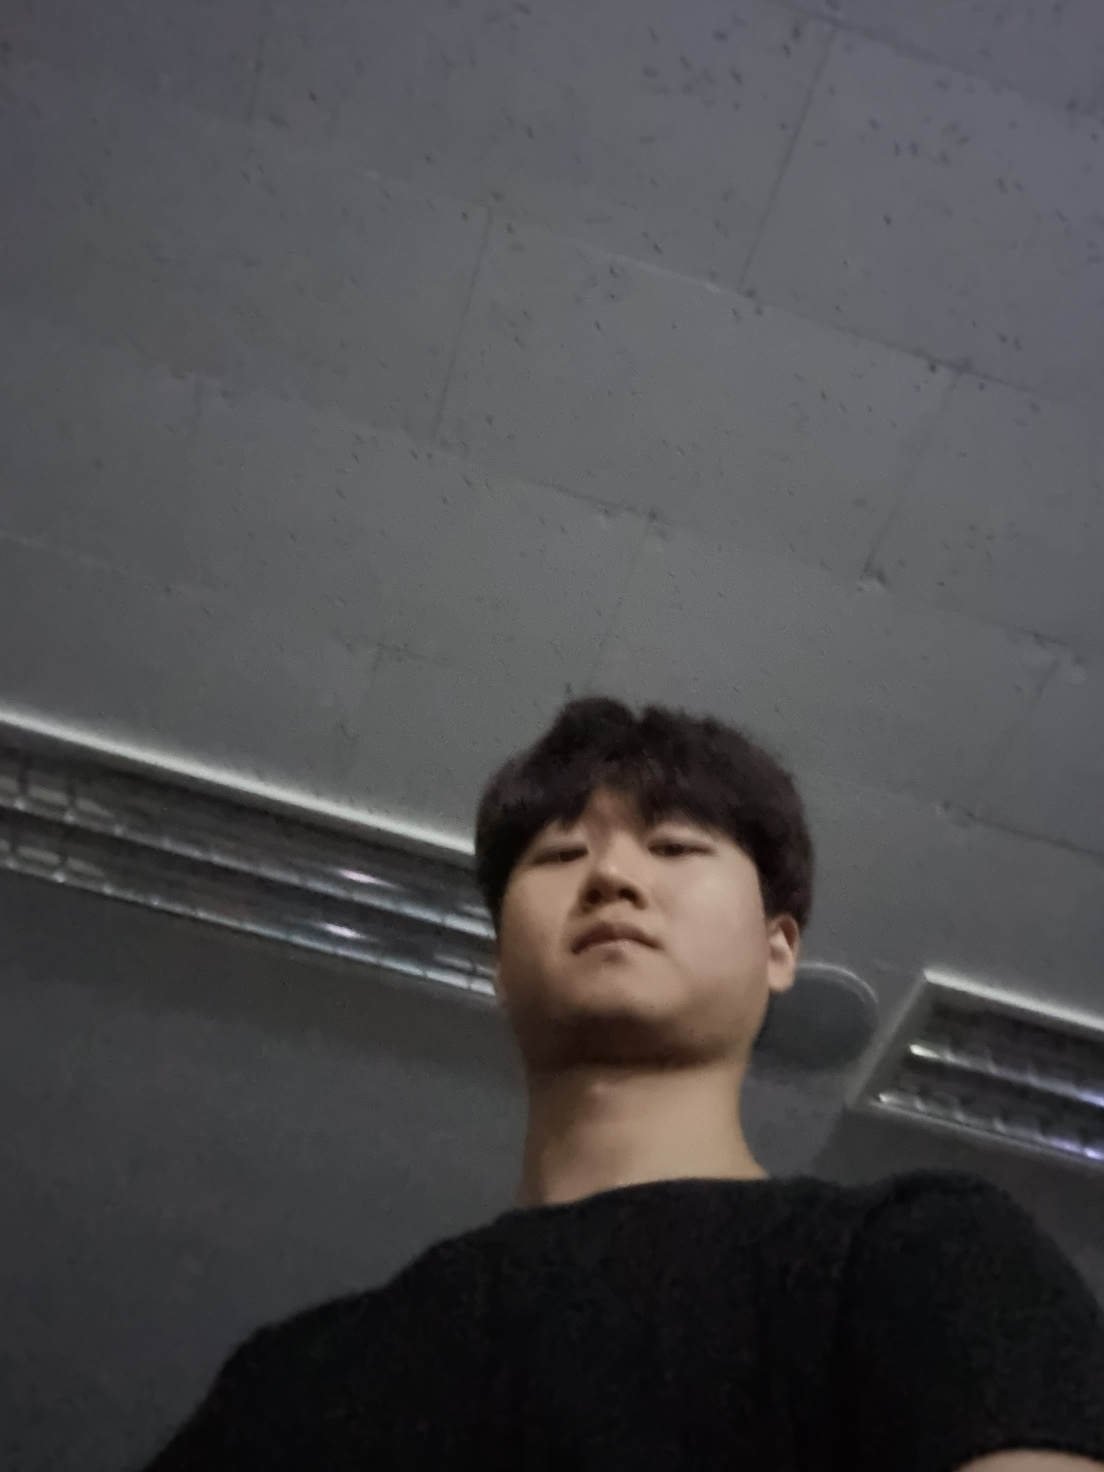Non-Helmet: (457, 672, 847, 1066)
